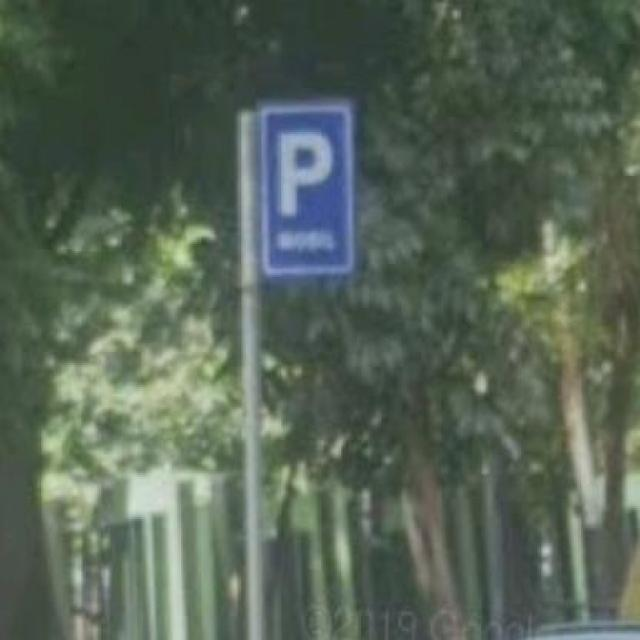traffic sign: (255, 101, 354, 274)
